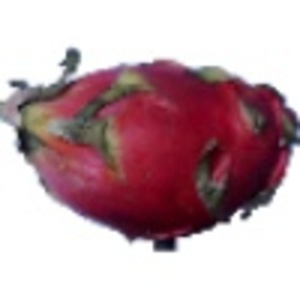pitaia: (1, 47, 300, 253)
